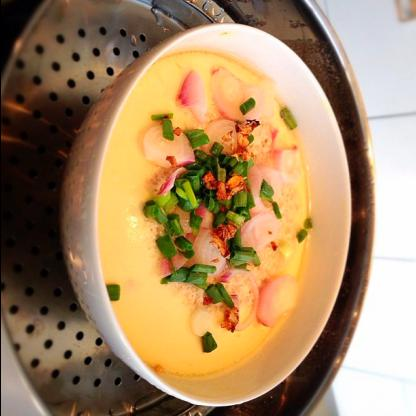Kaithoon: (57, 43, 357, 393)
